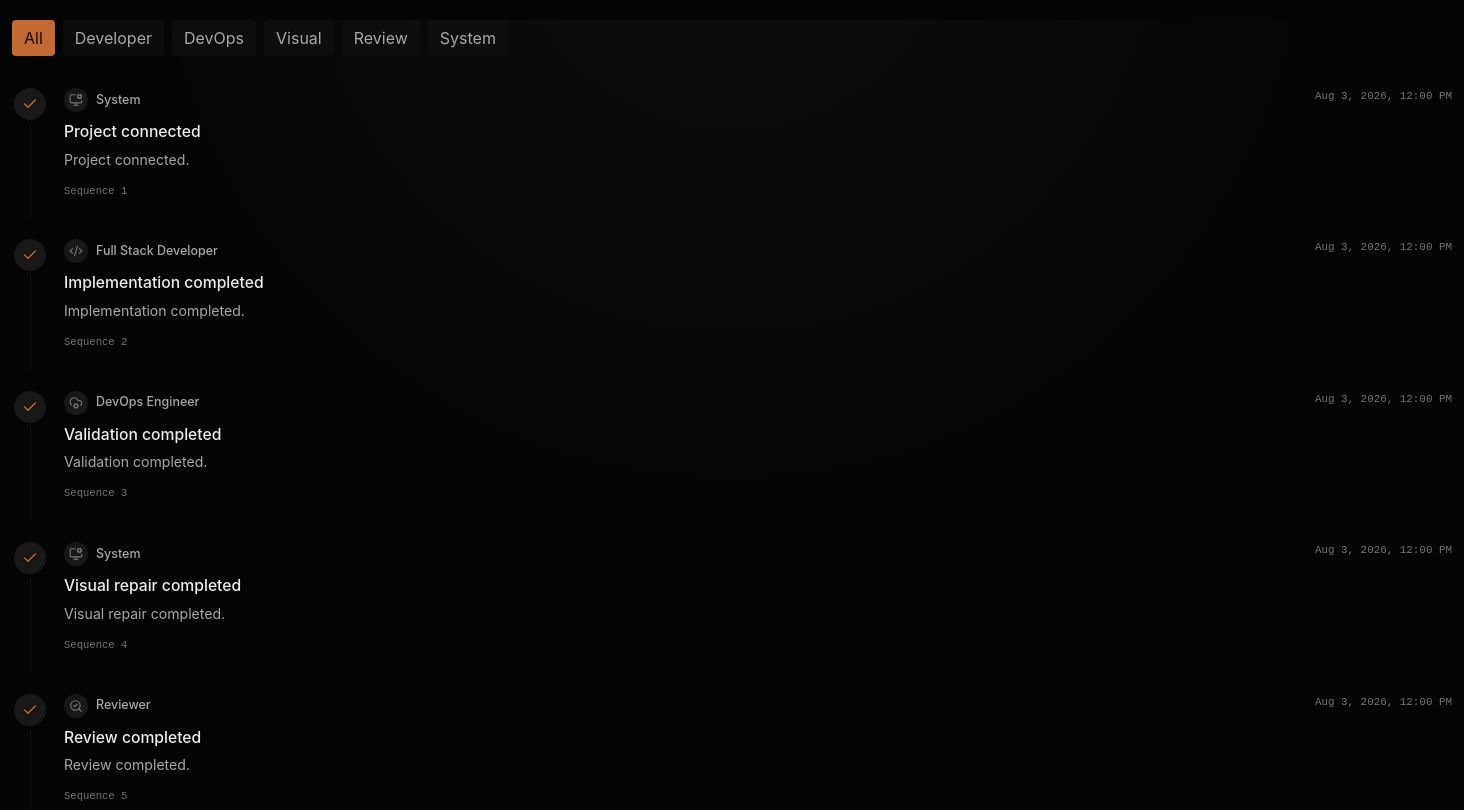
activity timeline filters › shows only mapped Developer events
Click the button "Developer" at (113, 38), box [63, 20, 164, 56]
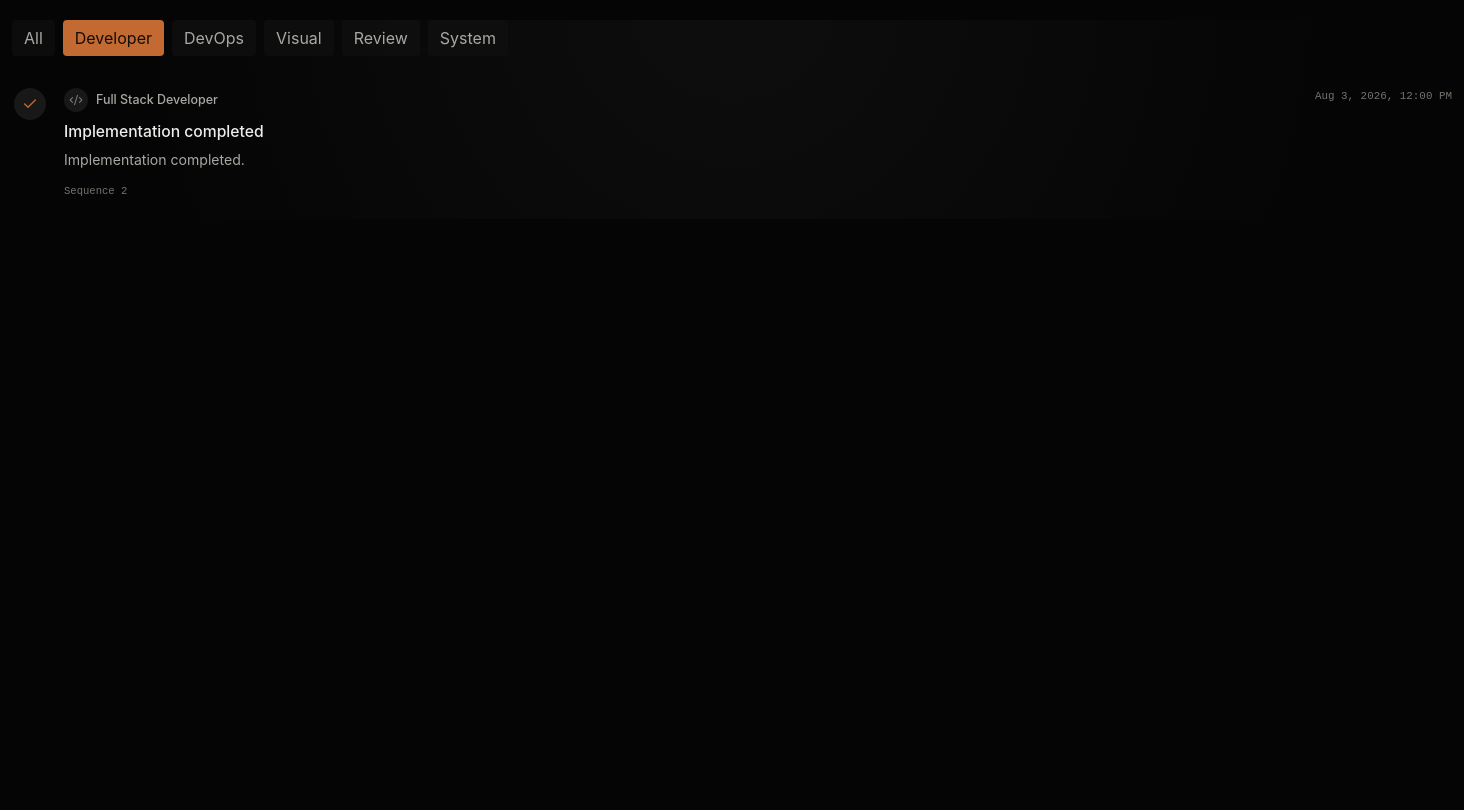
Check: the text "Validation completed." is gone
Check: the text "Review completed." is gone
